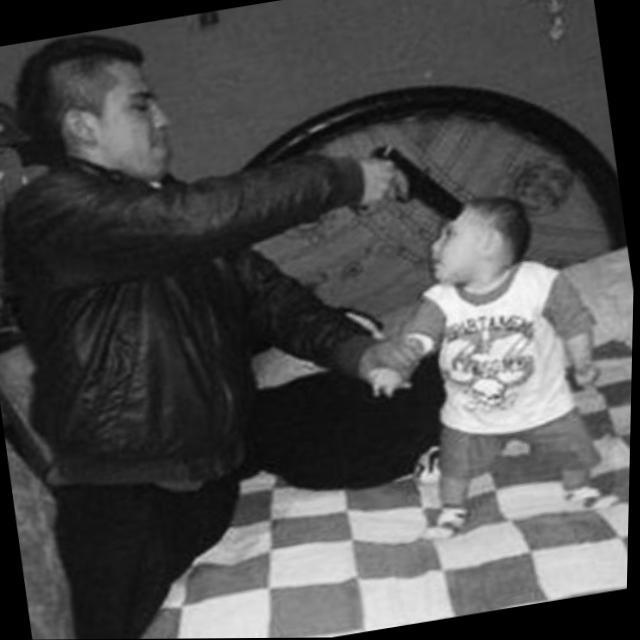weapon: (331, 123, 482, 250)
